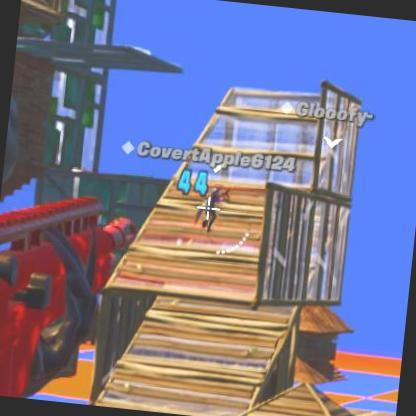person: (194, 180, 221, 234)
